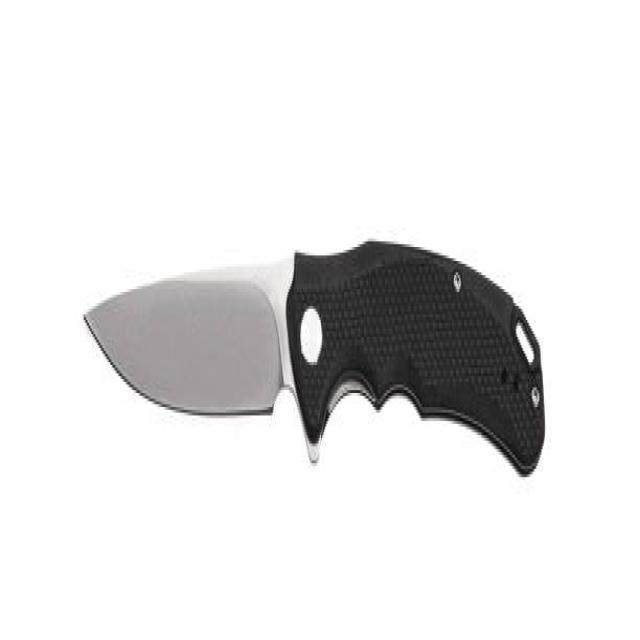knife: (83, 235, 550, 527)
